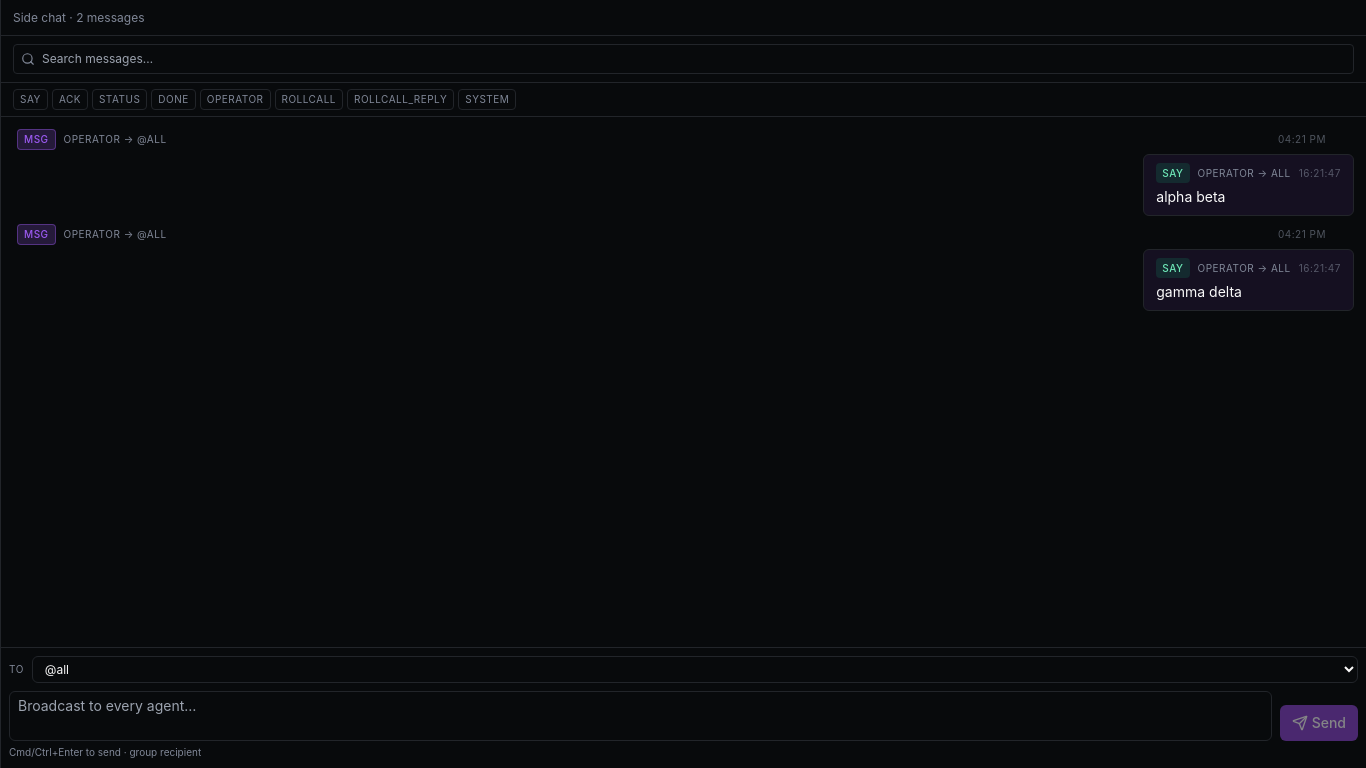
Test: SideChat search › filters messages by body text after debounce
Type "alpha" into the search field.
click(684, 59); type("alpha")  # box [13,44,1354,74]
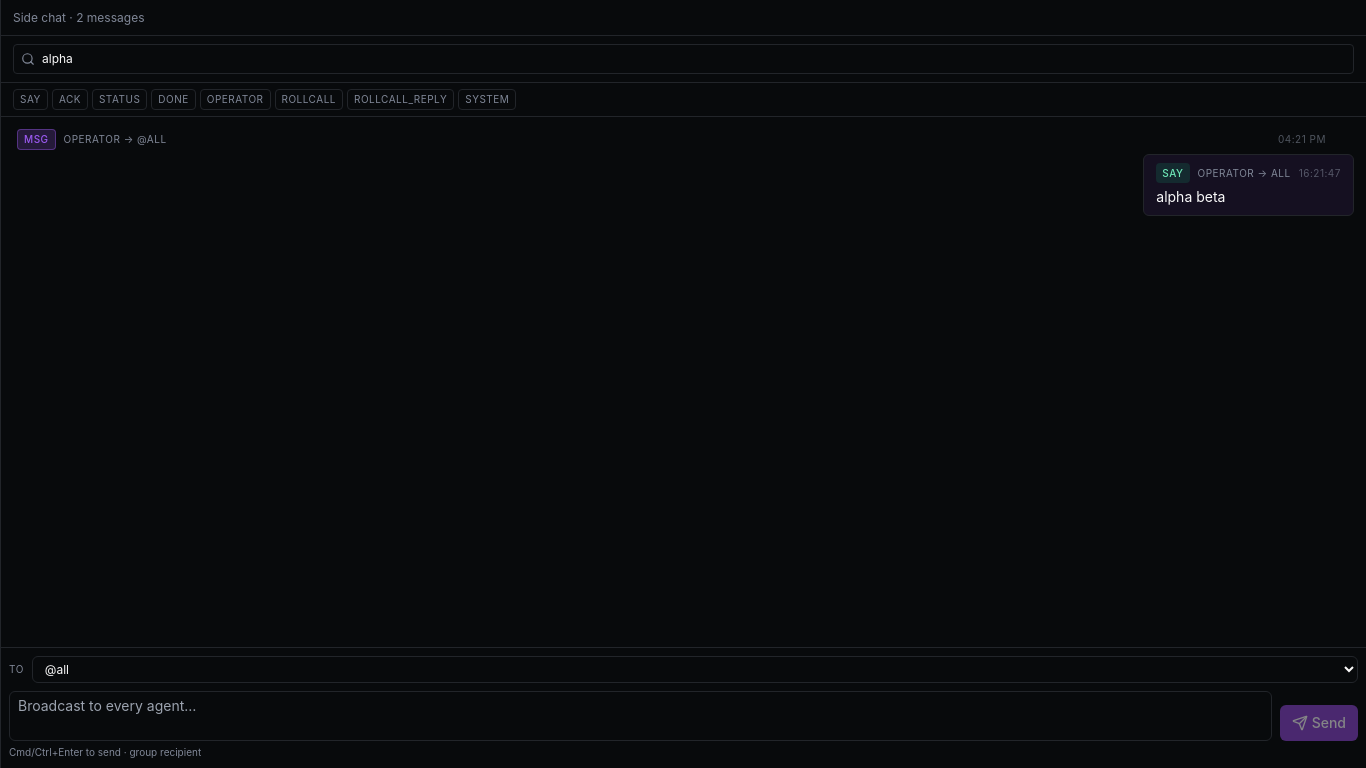
expect the text "alpha beta" is shown: met, box [1156,188,1226,205]
expect the text "gamma delta" is gone: met
